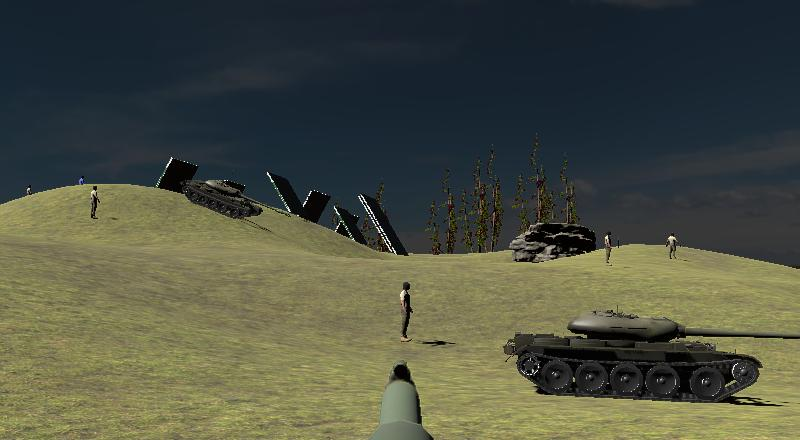Human: (397, 278, 416, 344), (87, 185, 103, 222), (664, 231, 681, 261), (24, 182, 35, 200)
Tank: (502, 301, 800, 404), (179, 173, 292, 224)
